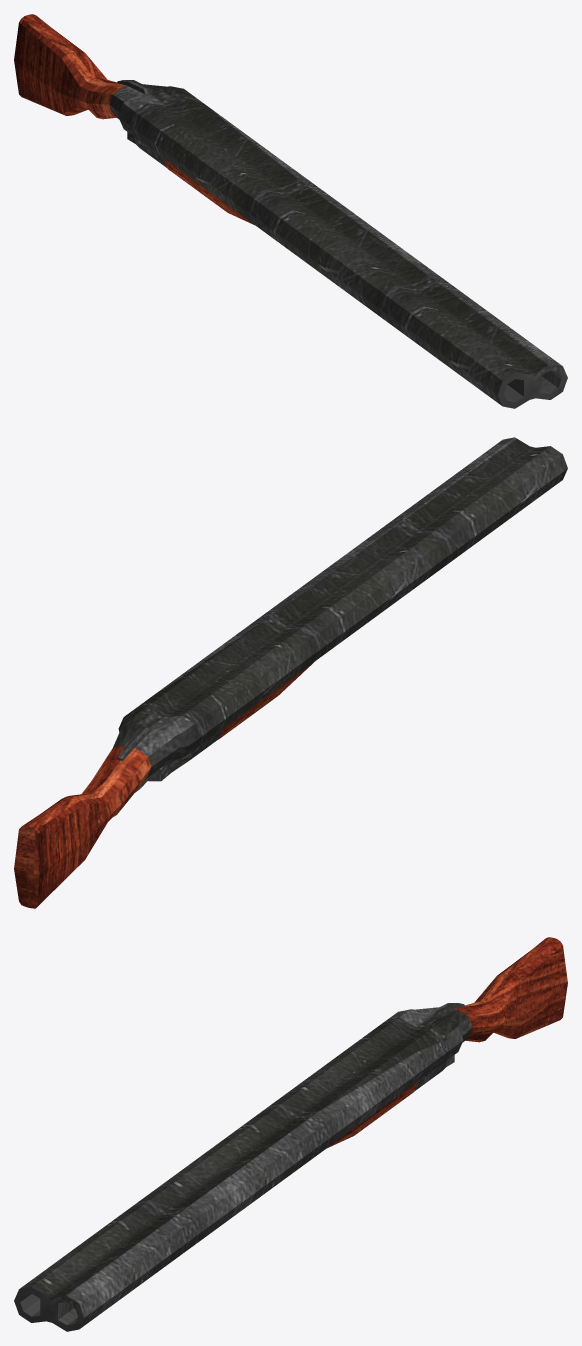
File: super_shotgun_psone.fbx
3 views of the same model, one above another, from view 1: azimuth 30°, elevation 25°; view 2: azimuth 150°, elevation 25°; view 3: azimuth 330°, elevation 25° (orthographic).
Visible parts, largest first — view 1: Super Shotgun; view 2: Super Shotgun; view 3: Super Shotgun.
Boxes of the visible parts, box(x1,y1,x2,y2) form: Super Shotgun: box(14, 14, 567, 408); Super Shotgun: box(14, 437, 567, 908); Super Shotgun: box(14, 937, 567, 1331).
Bounding box in the file's own units: 51.38 × 67.75 × 641.
4 materials, 4 textured.
